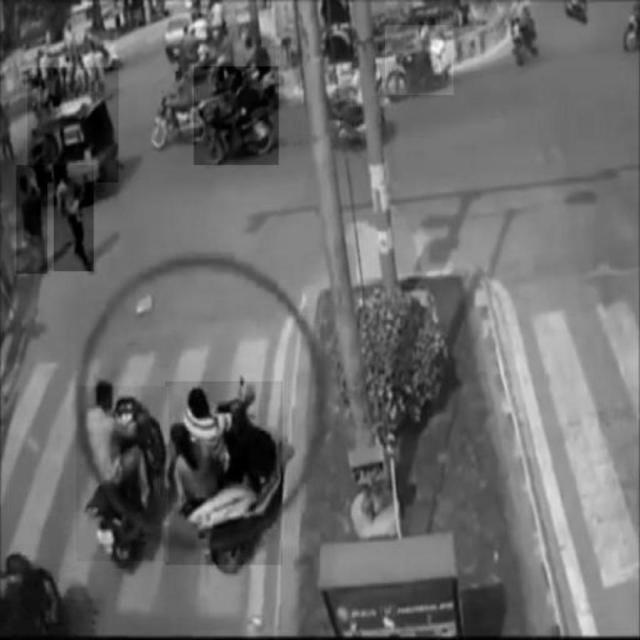person: (55, 166, 95, 272), (17, 165, 47, 273)
vehicle: (165, 381, 283, 565), (76, 386, 168, 561), (28, 67, 119, 183), (194, 67, 278, 165), (385, 25, 453, 95)
